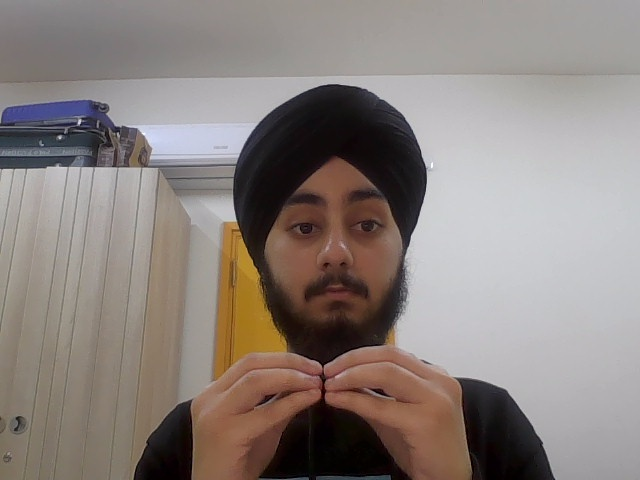More: (193, 339, 479, 480)
